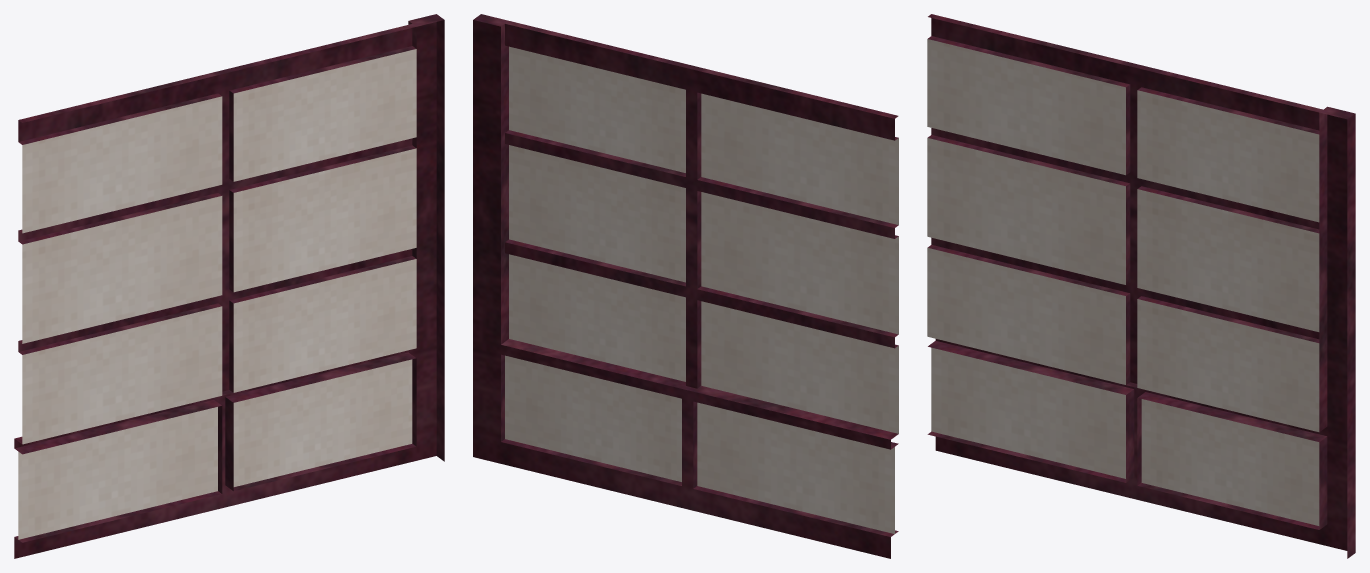
Rendered from NNJ0510031.fbx.
The picture shows the model from 3 angles, left to right: view 1: azimuth 30°, elevation 25°; view 2: azimuth 150°, elevation 25°; view 3: azimuth 330°, elevation 25°; orthographic projection.
Visible parts, largest first — view 1: smNNJ0510031; view 2: smNNJ0510031; view 3: smNNJ0510031.
Boxes of the visible parts, bbox=[...] form: smNNJ0510031: bbox=[14, 14, 444, 558]; smNNJ0510031: bbox=[473, 14, 898, 558]; smNNJ0510031: bbox=[927, 14, 1355, 558].
Bounding box in the file's own units: 276 × 276 × 9.21.
Materials: 1 (1 with a texture image).
